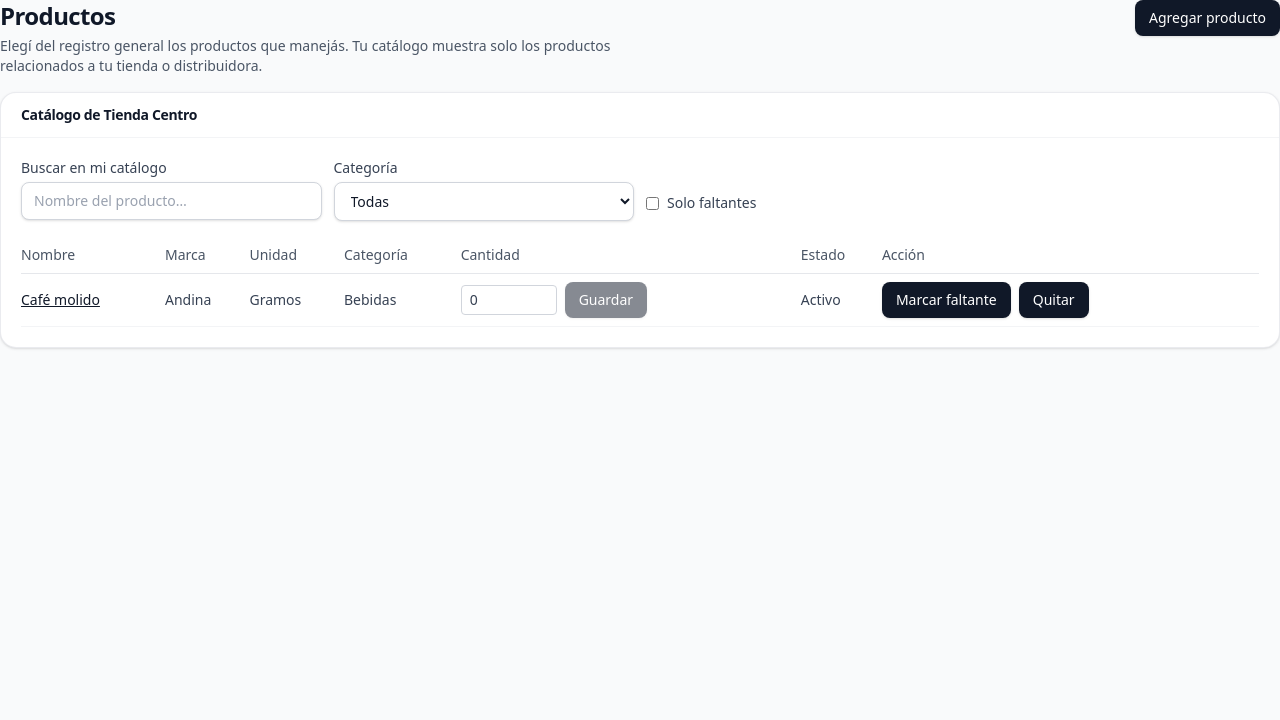
it: ProductsPage (0019 · catálogo por entidad) › S2: el alta es una ventana emergente y Escape la cierra
The width and height of the screenshot is (1280, 720).
Click the button "Agregar producto" at (1208, 18), box [1135,0,1279,36]
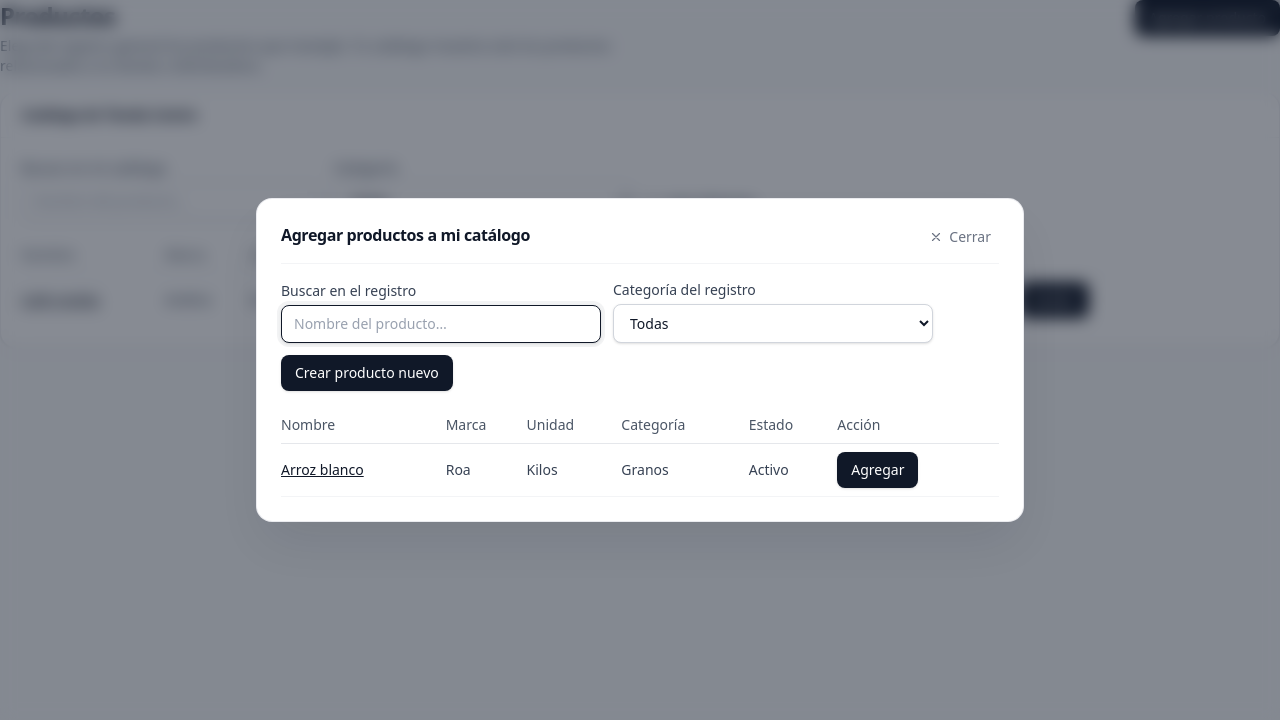
Press Escape
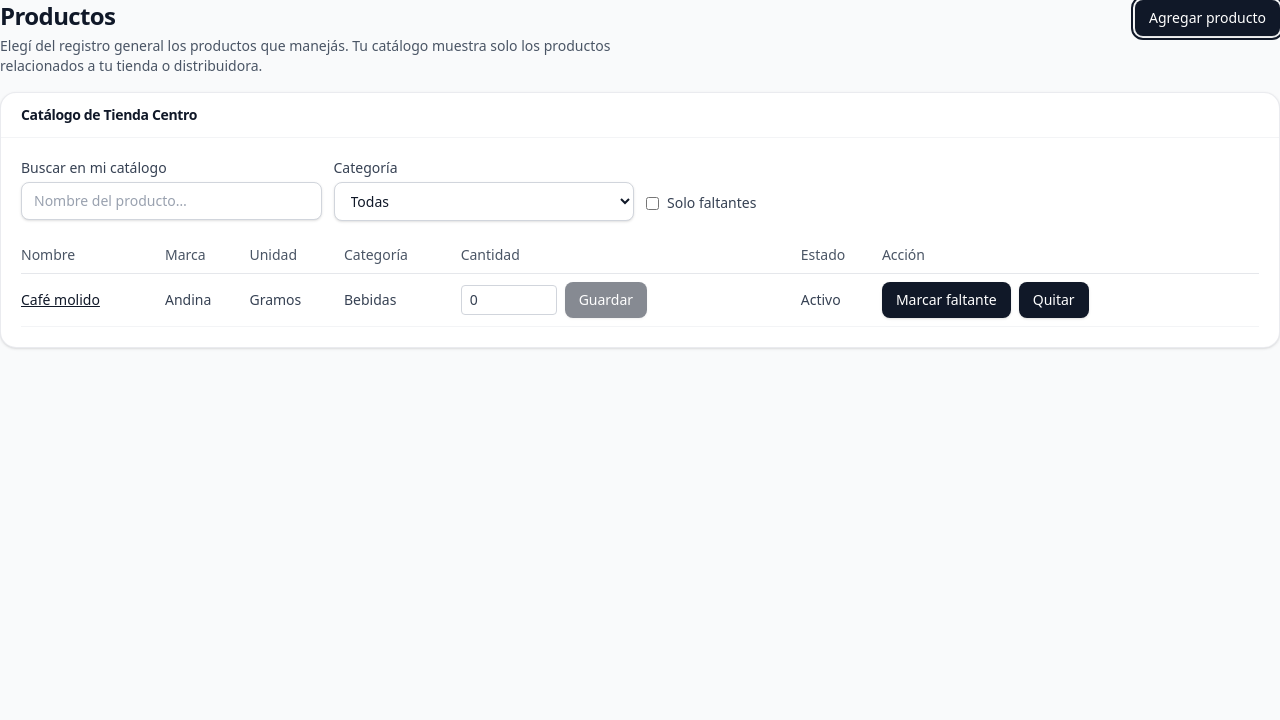
Result: the dialog is gone
